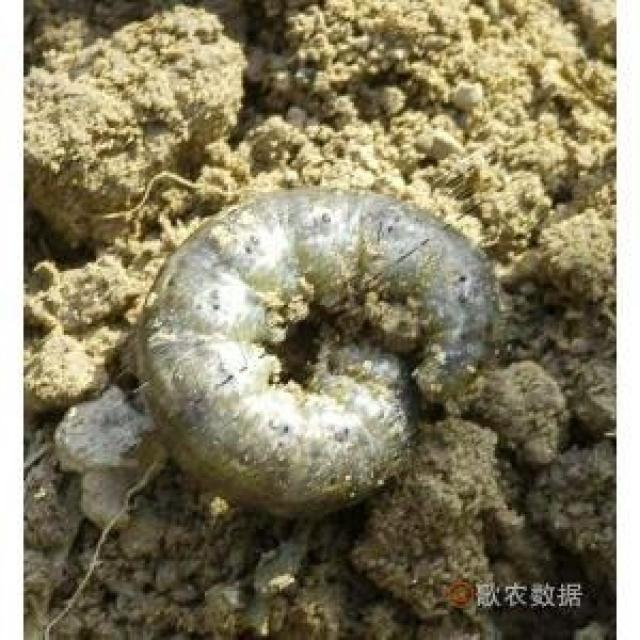black cutworm: (144, 183, 519, 520)
